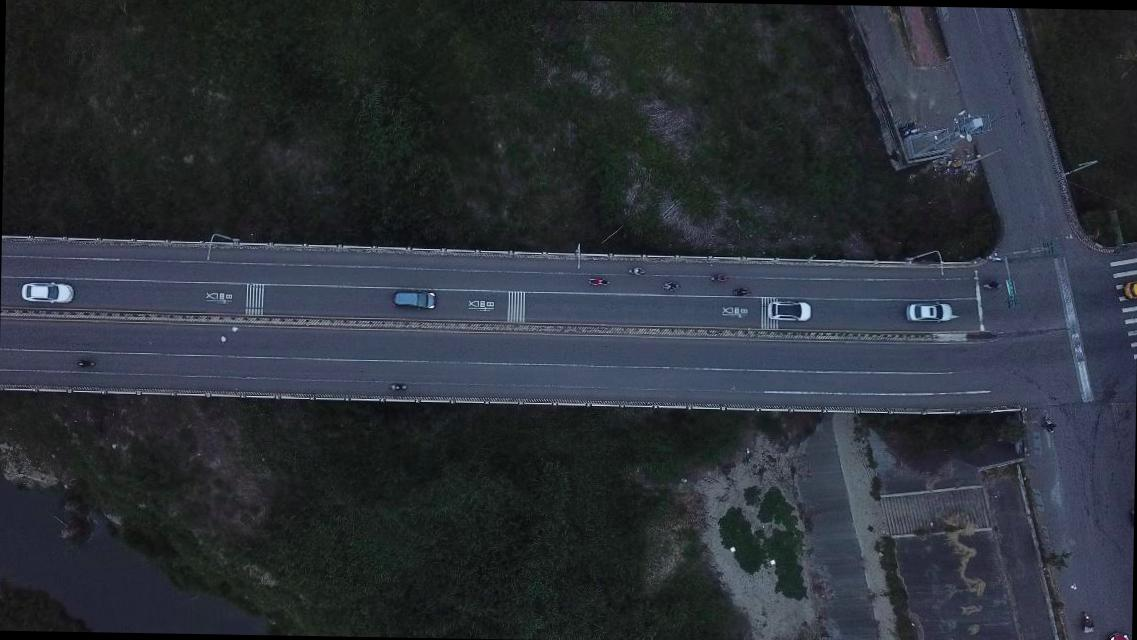vehicle: (20, 282, 75, 304), (769, 298, 814, 324), (904, 301, 953, 324), (391, 288, 438, 310), (1122, 281, 1136, 302), (1103, 629, 1131, 639)
